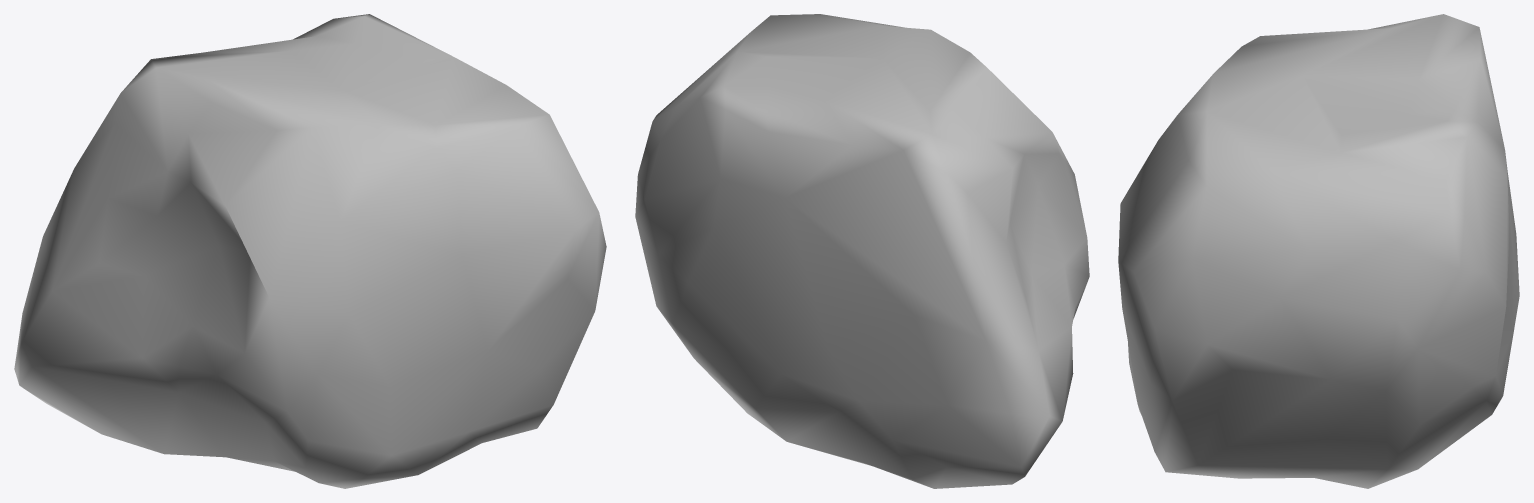
The model's file is Rock_1b.gltf.
3 renders of one model, left to right at view 1: azimuth 30°, elevation 25°; view 2: azimuth 150°, elevation 25°; view 3: azimuth 270°, elevation 25°, orthographic. The views are drawn at different scales.
Parts seen in each view (by area): view 1: Rock_1b; view 2: Rock_1b; view 3: Rock_1b.
Boxes of the visible parts, x1,y1,x2,y2 form: Rock_1b: [14, 14, 606, 488]; Rock_1b: [635, 14, 1089, 488]; Rock_1b: [1118, 14, 1519, 488].
Bounding box in the file's own units: 39.66 × 29.03 × 29.3.
1 material, 1 textured.
